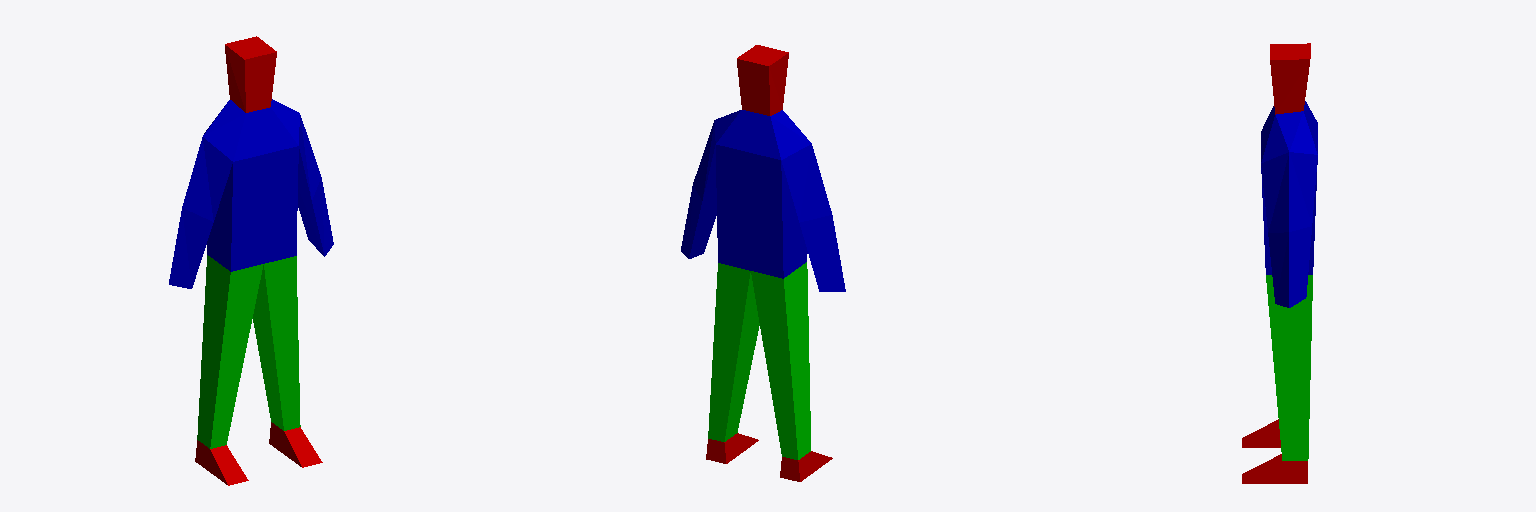
Rendered from statue.obj.
The picture shows the model from 3 angles: view 1: azimuth 30°, elevation 25°; view 2: azimuth 150°, elevation 25°; view 3: azimuth 270°, elevation 25°; orthographic projection.
Visible parts, largest first — view 1: HumanLow_Cube; view 2: HumanLow_Cube; view 3: HumanLow_Cube.
Boxes of the visible parts, <box> form: HumanLow_Cube: <box>169,36,333,485</box>; HumanLow_Cube: <box>681,45,845,481</box>; HumanLow_Cube: <box>1242,43,1317,483</box>.
Bounding box in the file's own units: 40.32 × 95.32 × 16.